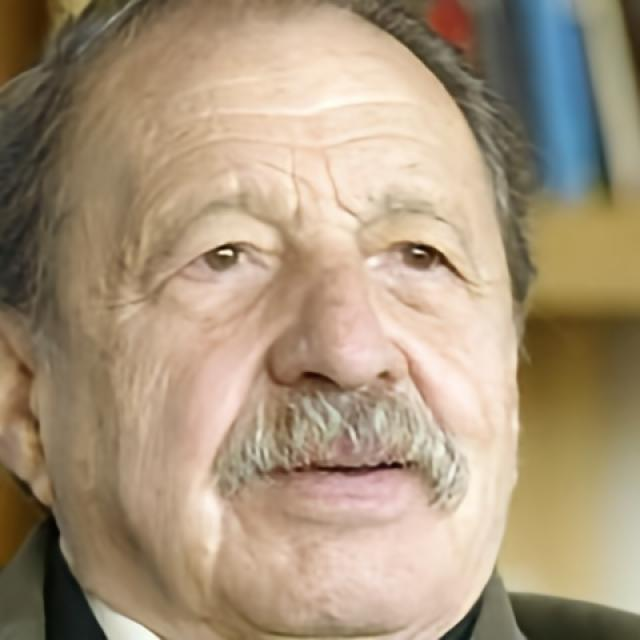neutral: (58, 0, 523, 640)
